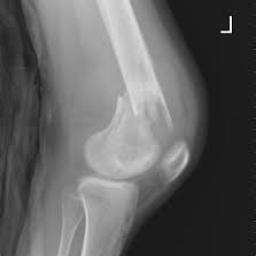cancer: (104, 72, 172, 151)
